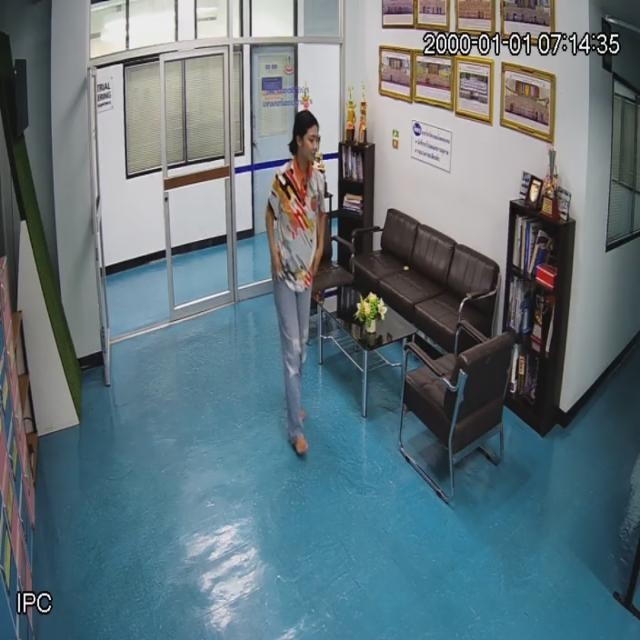normal: (265, 110, 325, 452)
